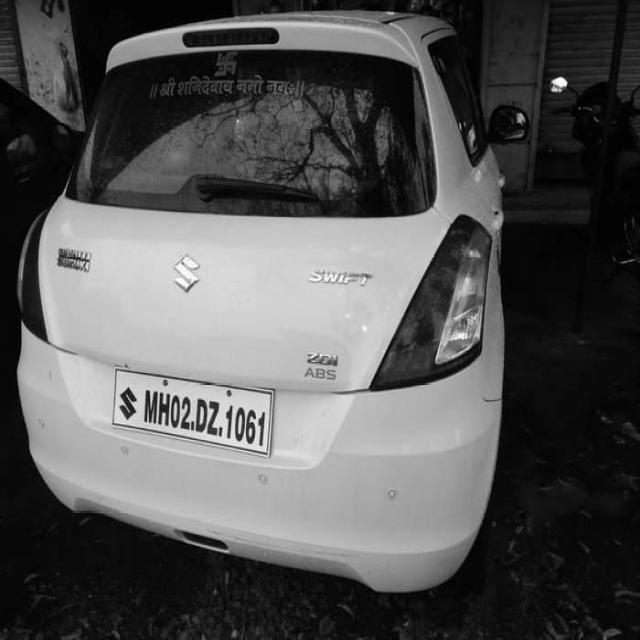car: (13, 4, 517, 602)
license-plate: (113, 364, 274, 456)
